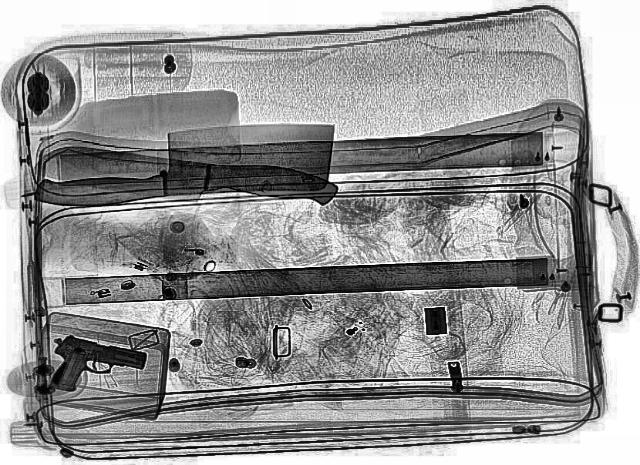Gun: (36, 330, 152, 404)
Knife: (24, 128, 350, 228), (23, 118, 340, 206)
